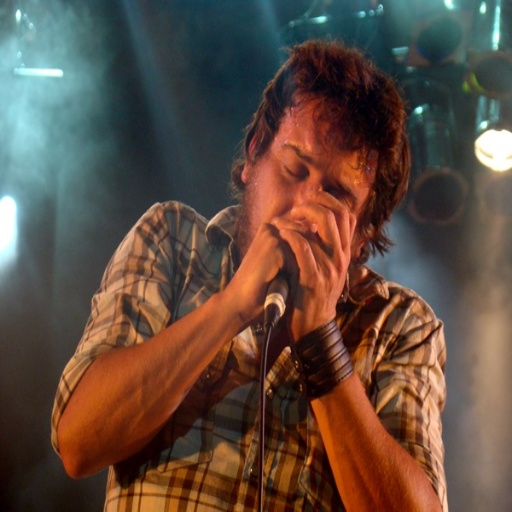hand: (67, 182, 356, 444), (272, 184, 359, 337), (230, 219, 297, 321)
